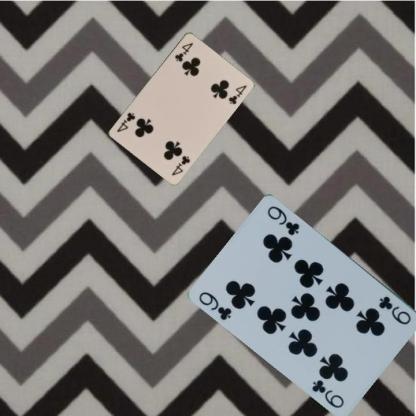4c: (172, 40, 195, 63), (170, 153, 192, 176)
9c: (376, 293, 413, 326), (197, 289, 234, 322)
